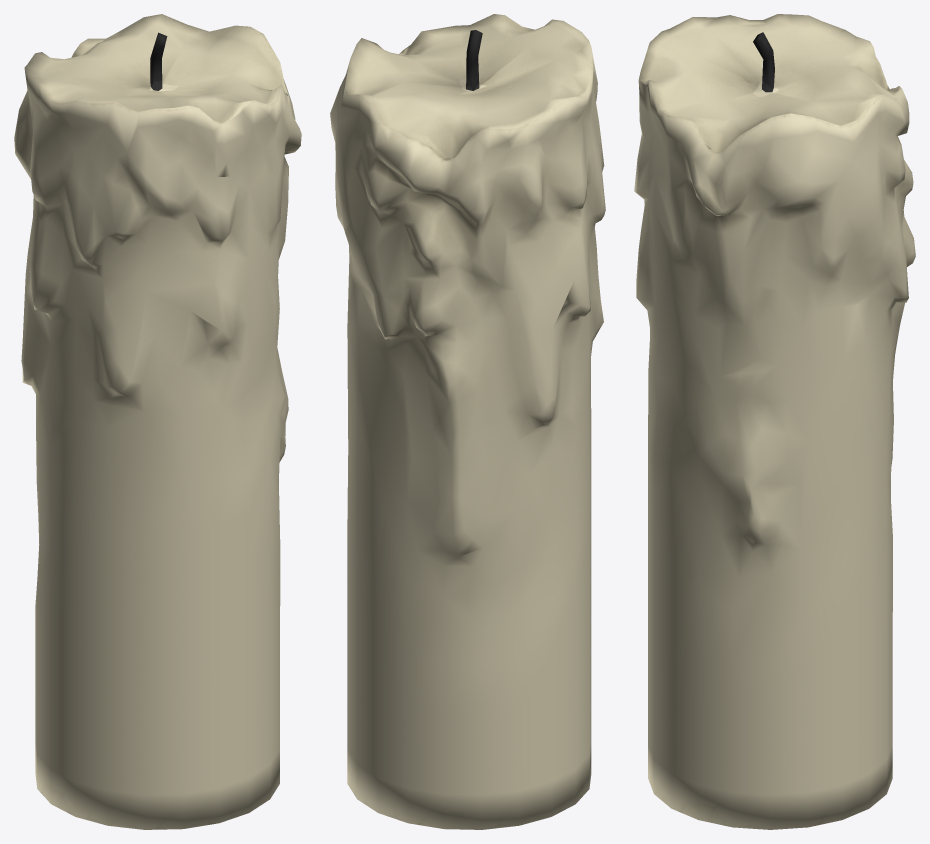
The model's file is candle_01.fbx.
3 views of the same model, side by side, from view 1: azimuth 30°, elevation 25°; view 2: azimuth 150°, elevation 25°; view 3: azimuth 270°, elevation 25° (orthographic).
Visible parts, largest first — view 1: candle_01; view 2: candle_01; view 3: candle_01.
Boxes of the visible parts, box(x1,y1,x2,y2) form: candle_01: box(14, 14, 301, 829); candle_01: box(330, 14, 605, 829); candle_01: box(634, 14, 915, 829).
Bounding box in the file's own units: 10.49 × 30.77 × 10.55.
